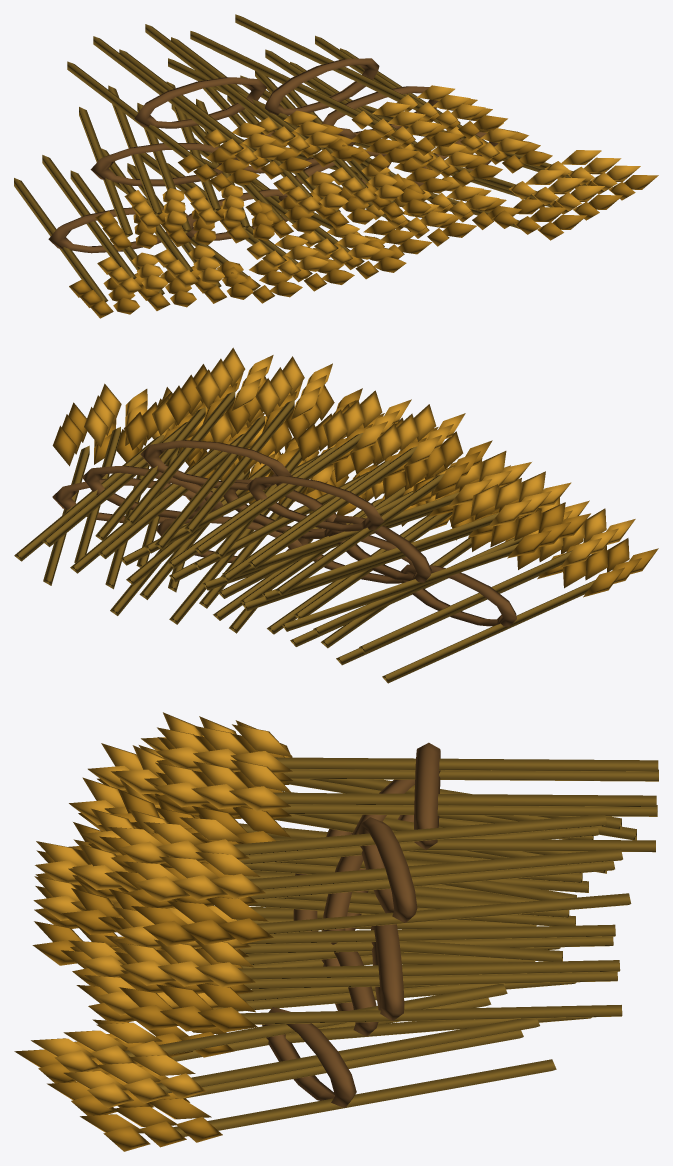
The model's file is pile-rice-9.obj.
3 views of the same model, one above another, from view 1: azimuth 30°, elevation 25°; view 2: azimuth 150°, elevation 25°; view 3: azimuth 270°, elevation 25° (orthographic). The views are drawn at different scales.
Parts seen in each view (by area): view 1: pile-rice-9; view 2: pile-rice-9; view 3: pile-rice-9.
Part boxes in pixels (x1,y1,x2,y2): pile-rice-9: (14,14,658,318); pile-rice-9: (14,347,658,683); pile-rice-9: (14,712,658,1151).
Bounding box in the file's own units: 0.7921 × 0.1754 × 0.5662.
1 material, 1 textured.
